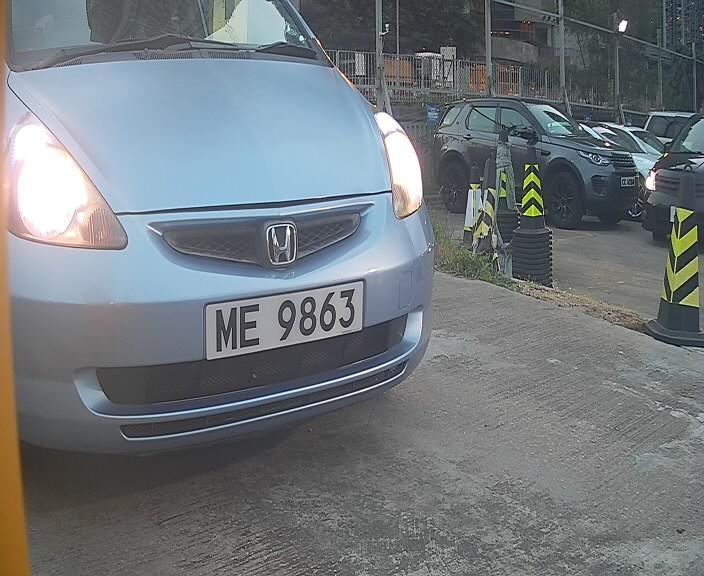privatecar: (1, 13, 472, 461)
